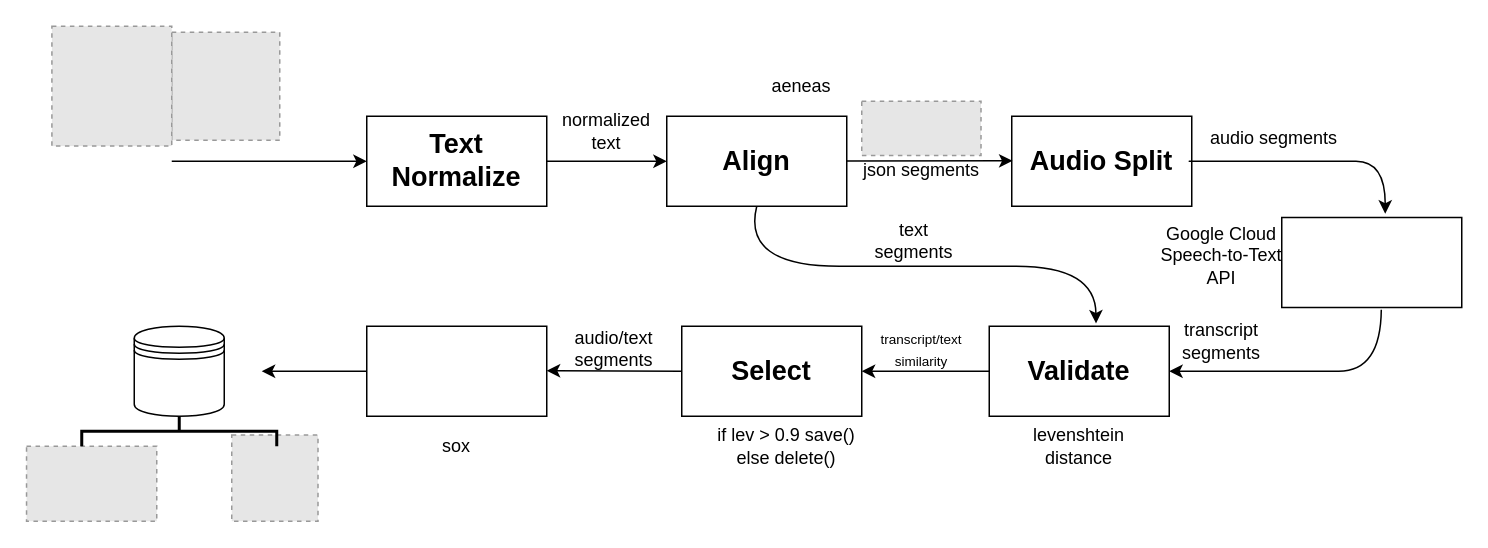
Image size: 1488x548. Some labels were removed from this diagram. Grey dashed boxes stand in for pictures. The shapes that lost their labels are listed below. From the top down, each one's centre as x and y in pixels, then its label:
At point (1371, 262): "Transcript".
At point (456, 370): "Audio Normalize".
